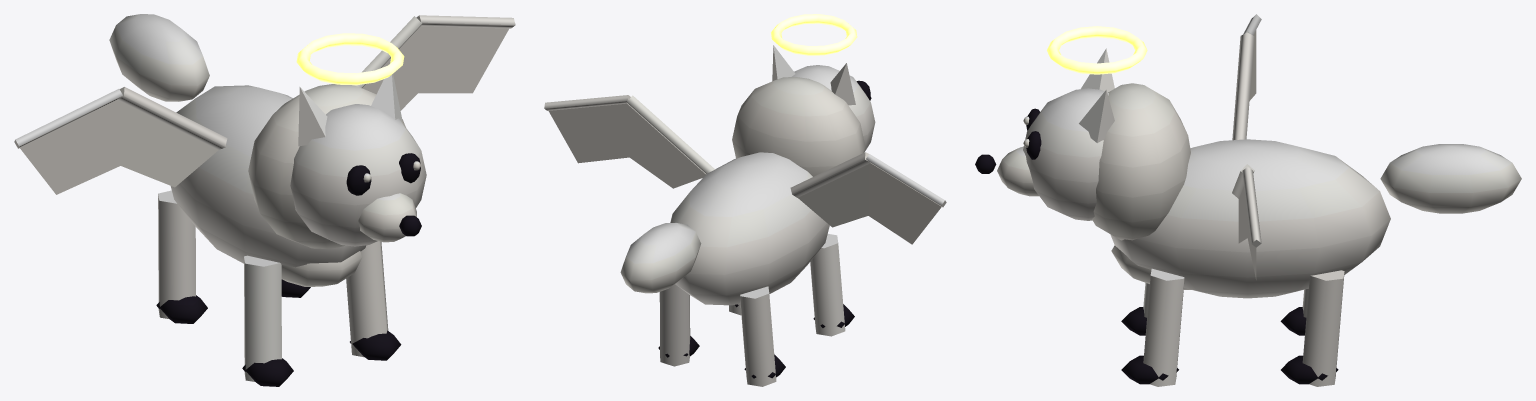
File: monster_pegasus.glb
3 renders of one model, left to right at view 1: azimuth 30°, elevation 25°; view 2: azimuth 150°, elevation 25°; view 3: azimuth 270°, elevation 25°, orthographic. The views are drawn at different scales.
Visible parts, largest first — view 1: body_t0_palette, wingl_t0_palette, legl_t0_palette, wingr_t0_palette, tail_t0_palette, legr_t0_palette, body_t0_glow_gold; view 2: body_t0_palette, wingr_t0_palette, wingl_t0_palette, legl_t0_palette, tail_t0_palette, legr_t0_palette, body_t0_glow_gold; view 3: body_t0_palette, legr_t0_palette, tail_t0_palette, body_t0_glow_gold, wingl_t0_palette, wingr_t0_palette, legl_t0_palette.
Boxes of the visible parts, <box> form: body_t0_palette: <box>170,74,426,286</box>; wingl_t0_palette: <box>14,87,227,194</box>; legl_t0_palette: <box>156,190,293,386</box>; wingr_t0_palette: <box>354,15,515,110</box>; tail_t0_palette: <box>109,14,209,101</box>; legr_t0_palette: <box>281,241,401,360</box>; body_t0_glow_gold: <box>296,33,404,85</box>; body_t0_palette: <box>670,45,875,305</box>; wingr_t0_palette: <box>544,95,714,188</box>; wingl_t0_palette: <box>790,152,946,244</box>; legl_t0_palette: <box>740,234,854,386</box>; tail_t0_palette: <box>620,223,701,293</box>; legr_t0_palette: <box>658,284,741,366</box>; body_t0_glow_gold: <box>771,14,857,55</box>; body_t0_palette: <box>975,48,1390,298</box>; legr_t0_palette: <box>1121,268,1344,386</box>; tail_t0_palette: <box>1380,144,1521,213</box>; body_t0_glow_gold: <box>1047,26,1147,74</box>; wingl_t0_palette: <box>1232,14,1261,140</box>; wingr_t0_palette: <box>1232,164,1261,279</box>; legl_t0_palette: <box>1121,282,1308,335</box>.
Bounding box in the file's own units: 0.6033 × 0.3902 × 0.618.
